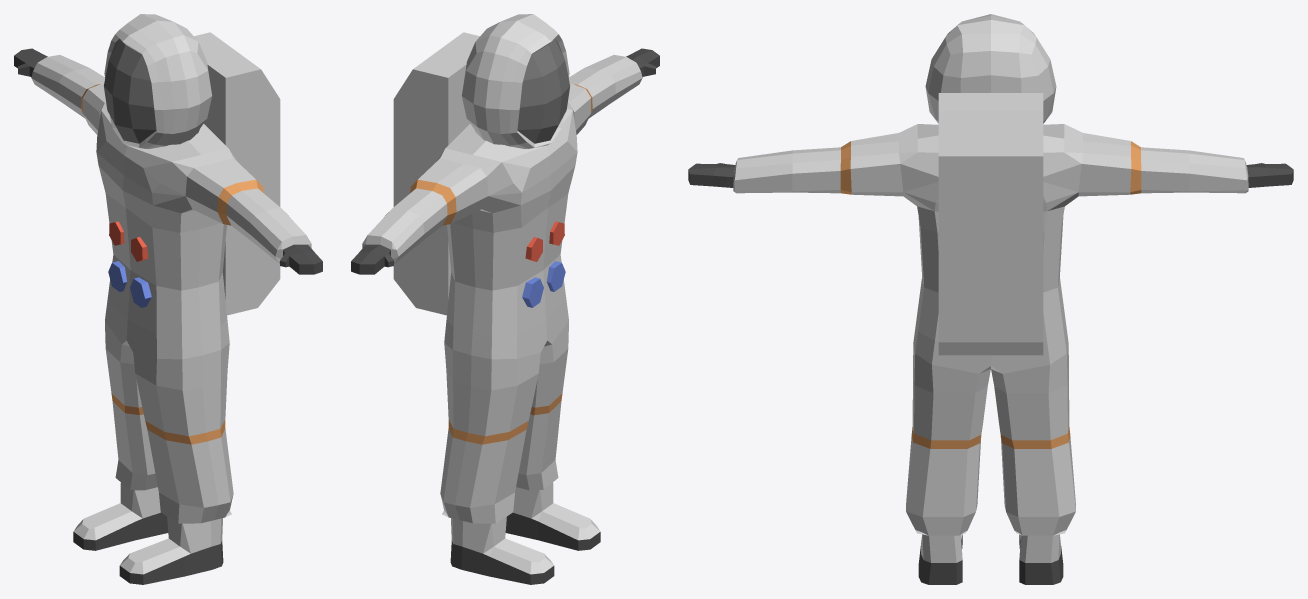
The model's file is Astronaut.fbx.
3 renders of one model, left to right at view 1: azimuth 30°, elevation 25°; view 2: azimuth 150°, elevation 25°; view 3: azimuth 270°, elevation 25°, orthographic. The views are drawn at different scales.
Parts seen in each view (by area): view 1: Astronaut; view 2: Astronaut; view 3: Astronaut.
Boxes of the visible parts, left/top/right/bottom form: Astronaut: left=14, top=14, right=322, bottom=584; Astronaut: left=351, top=14, right=659, bottom=584; Astronaut: left=688, top=14, right=1293, bottom=584.
Bounding box in the file's own units: 31.86 × 105 × 105.
